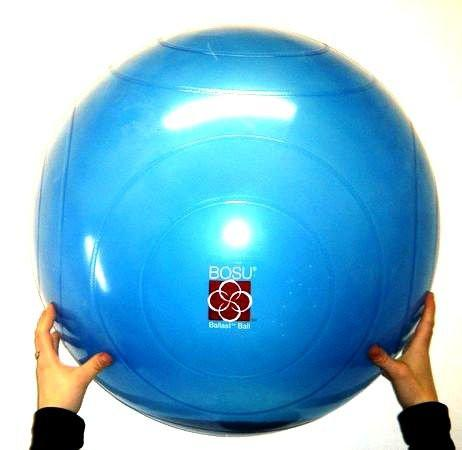blue ball: (36, 25, 443, 438)
